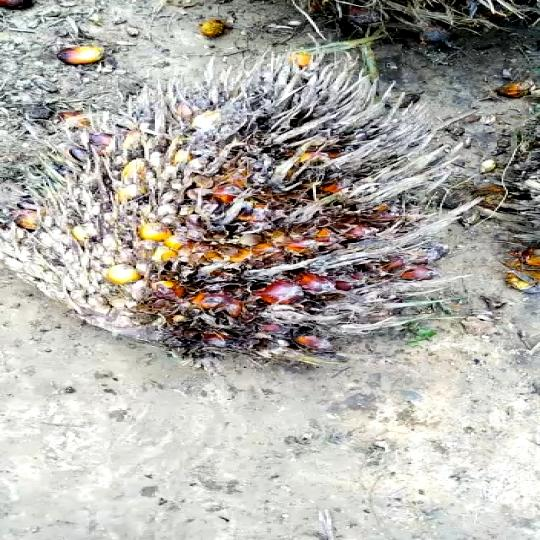terlalu masak: (0, 53, 500, 376)
